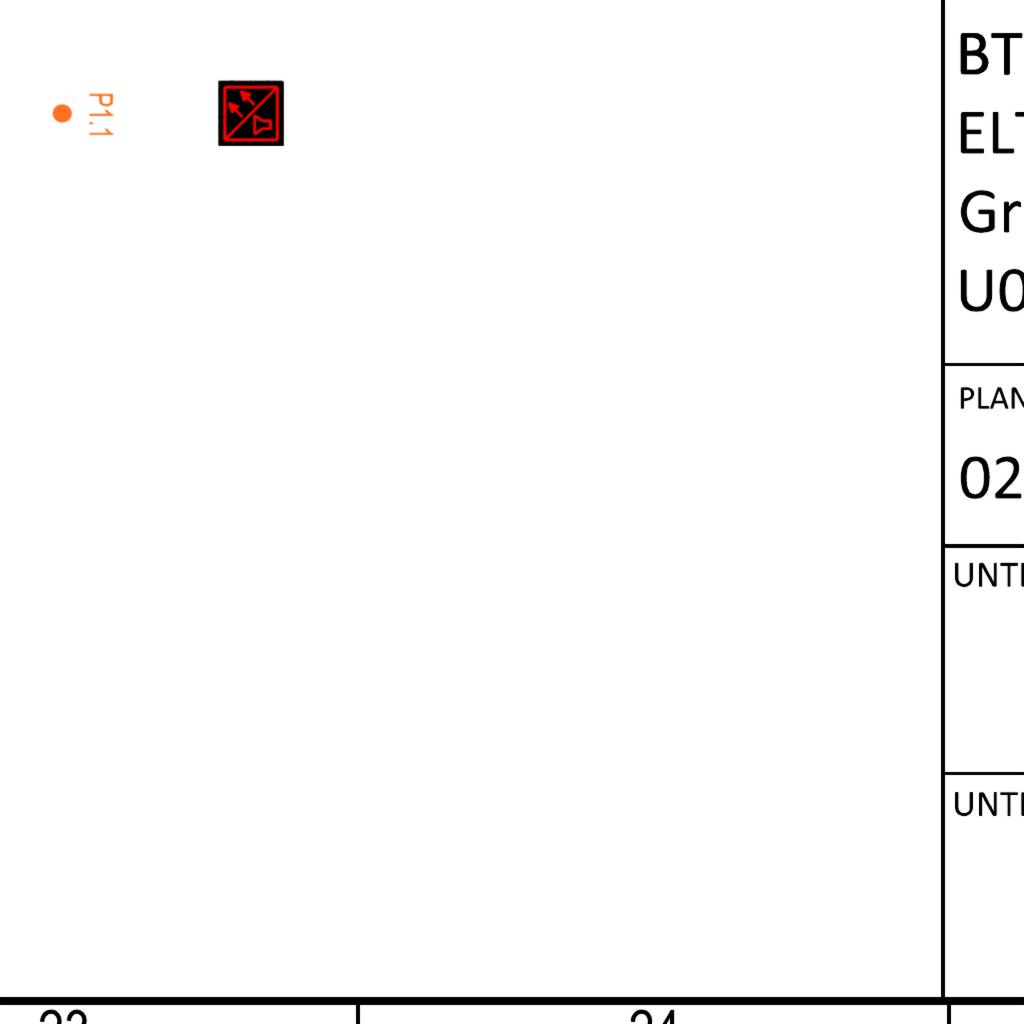Downlight_LED_Einbauleuchten_Flur: (51, 92, 115, 138)
OKW_Multisensormelder_(Kombination_optischer_Rauch-Kahlenmonoxid_Waerme-Melder): (218, 80, 284, 146)
